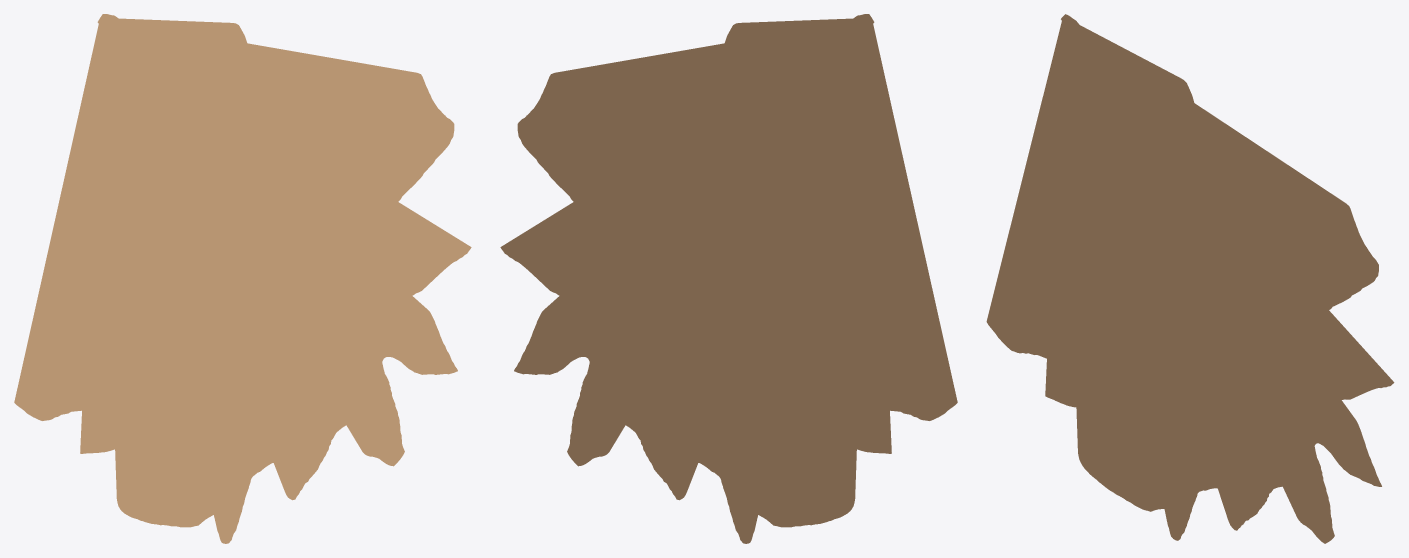
The model's file is dried.fbx.
3 views of the same model, side by side, from view 1: azimuth 30°, elevation 25°; view 2: azimuth 150°, elevation 25°; view 3: azimuth 330°, elevation 25° (orthographic). The views are drawn at different scales.
Parts seen in each view (by area): view 1: Model; view 2: Model; view 3: Model.
Boxes of the visible parts, x1=… form: Model: x1=14, y1=14, x2=471, y2=543; Model: x1=500, y1=14, x2=957, y2=543; Model: x1=986, y1=14, x2=1394, y2=543.
Bounding box in the file's own units: 6.14 × 7.18 × 1.74e-15.
